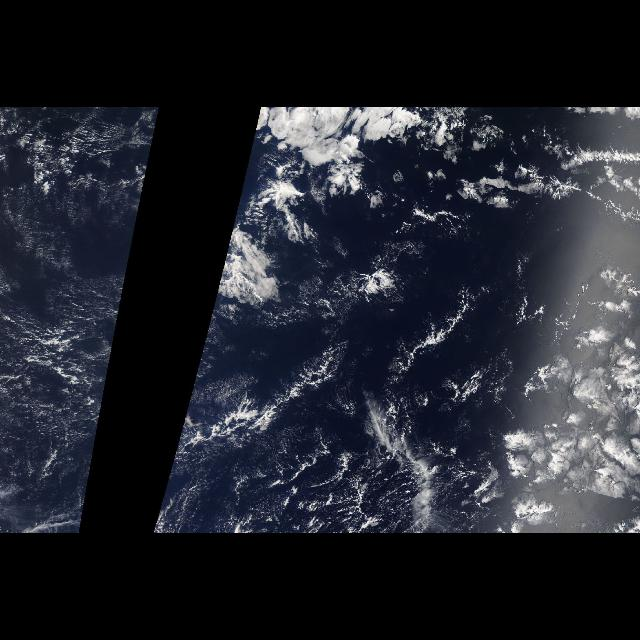Flower: (264, 166, 636, 506), (7, 117, 98, 477)
Sugar: (0, 181, 146, 534)
